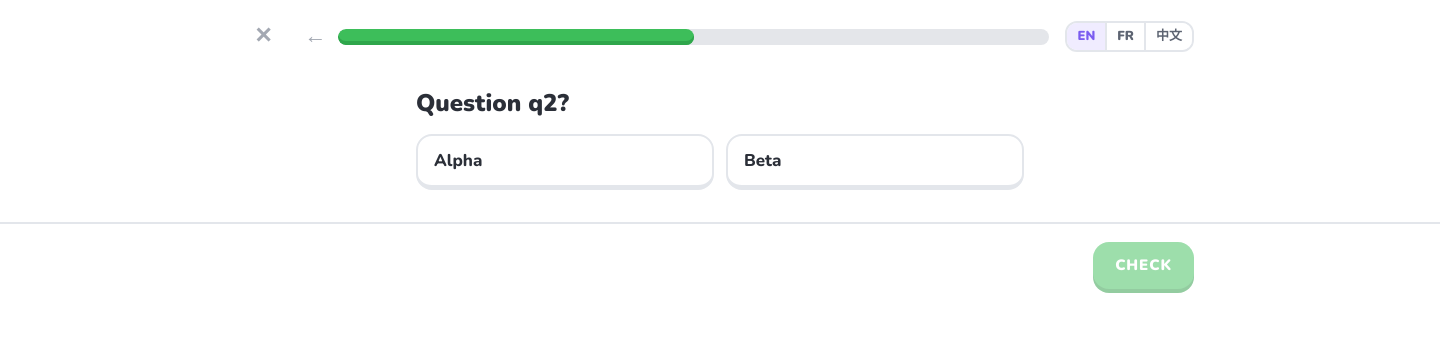
Test: going back inside a lesson › the history survives leaving and reopening
Earlier steps of the test are not shown.
Click the button named "Go back" at (315, 36), box [296,16,334,57]
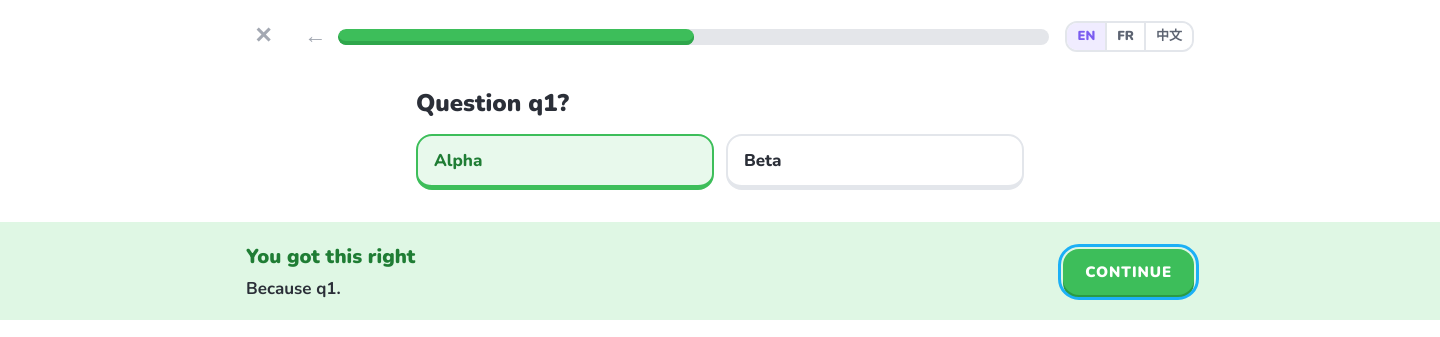
Now the text "You got this right" is shown, box [246,243,415,270]
